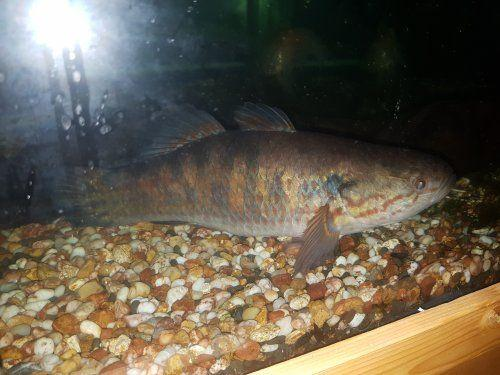Goby: (13, 95, 476, 264)
